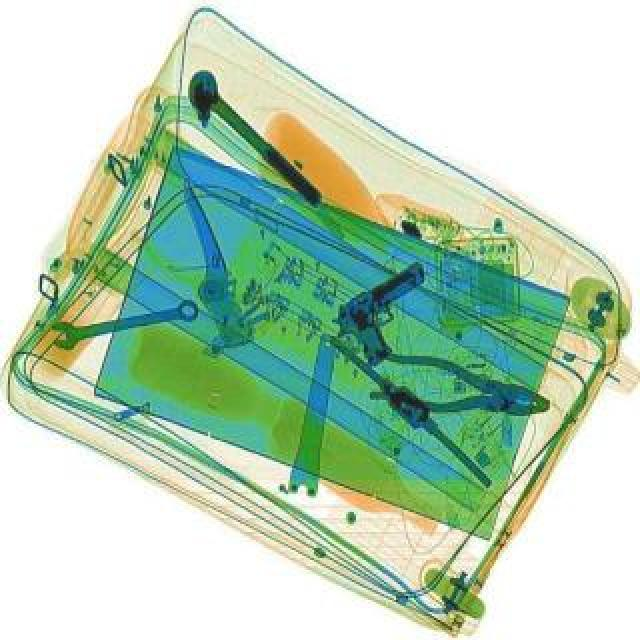gun: (318, 256, 458, 372)
scissors: (46, 294, 202, 352)
wrench: (366, 346, 554, 428)
